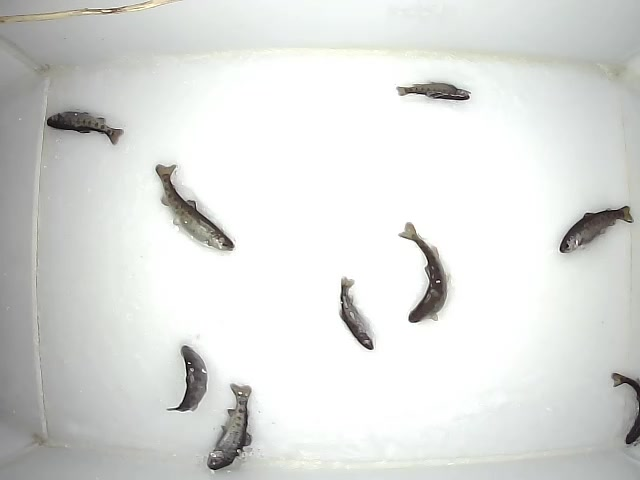fish: (154, 163, 234, 252), (395, 220, 449, 325), (205, 382, 259, 471), (557, 203, 635, 254), (165, 343, 208, 413), (338, 274, 376, 352), (45, 110, 124, 146), (609, 370, 640, 446), (394, 78, 474, 103)
